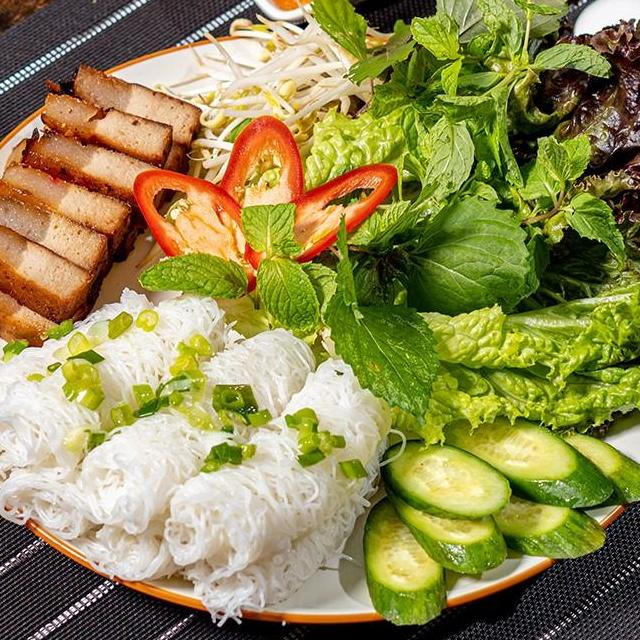banh hoi: (46, 318, 325, 538), (157, 351, 404, 588), (0, 285, 240, 485), (175, 428, 395, 632), (0, 282, 165, 486), (65, 511, 192, 592), (0, 458, 111, 548)
bun dau: (0, 46, 640, 640)
thit heo quay: (41, 56, 208, 150), (0, 158, 136, 257), (16, 125, 168, 212), (33, 88, 176, 172), (0, 182, 114, 287), (0, 207, 97, 326), (0, 257, 85, 355)
